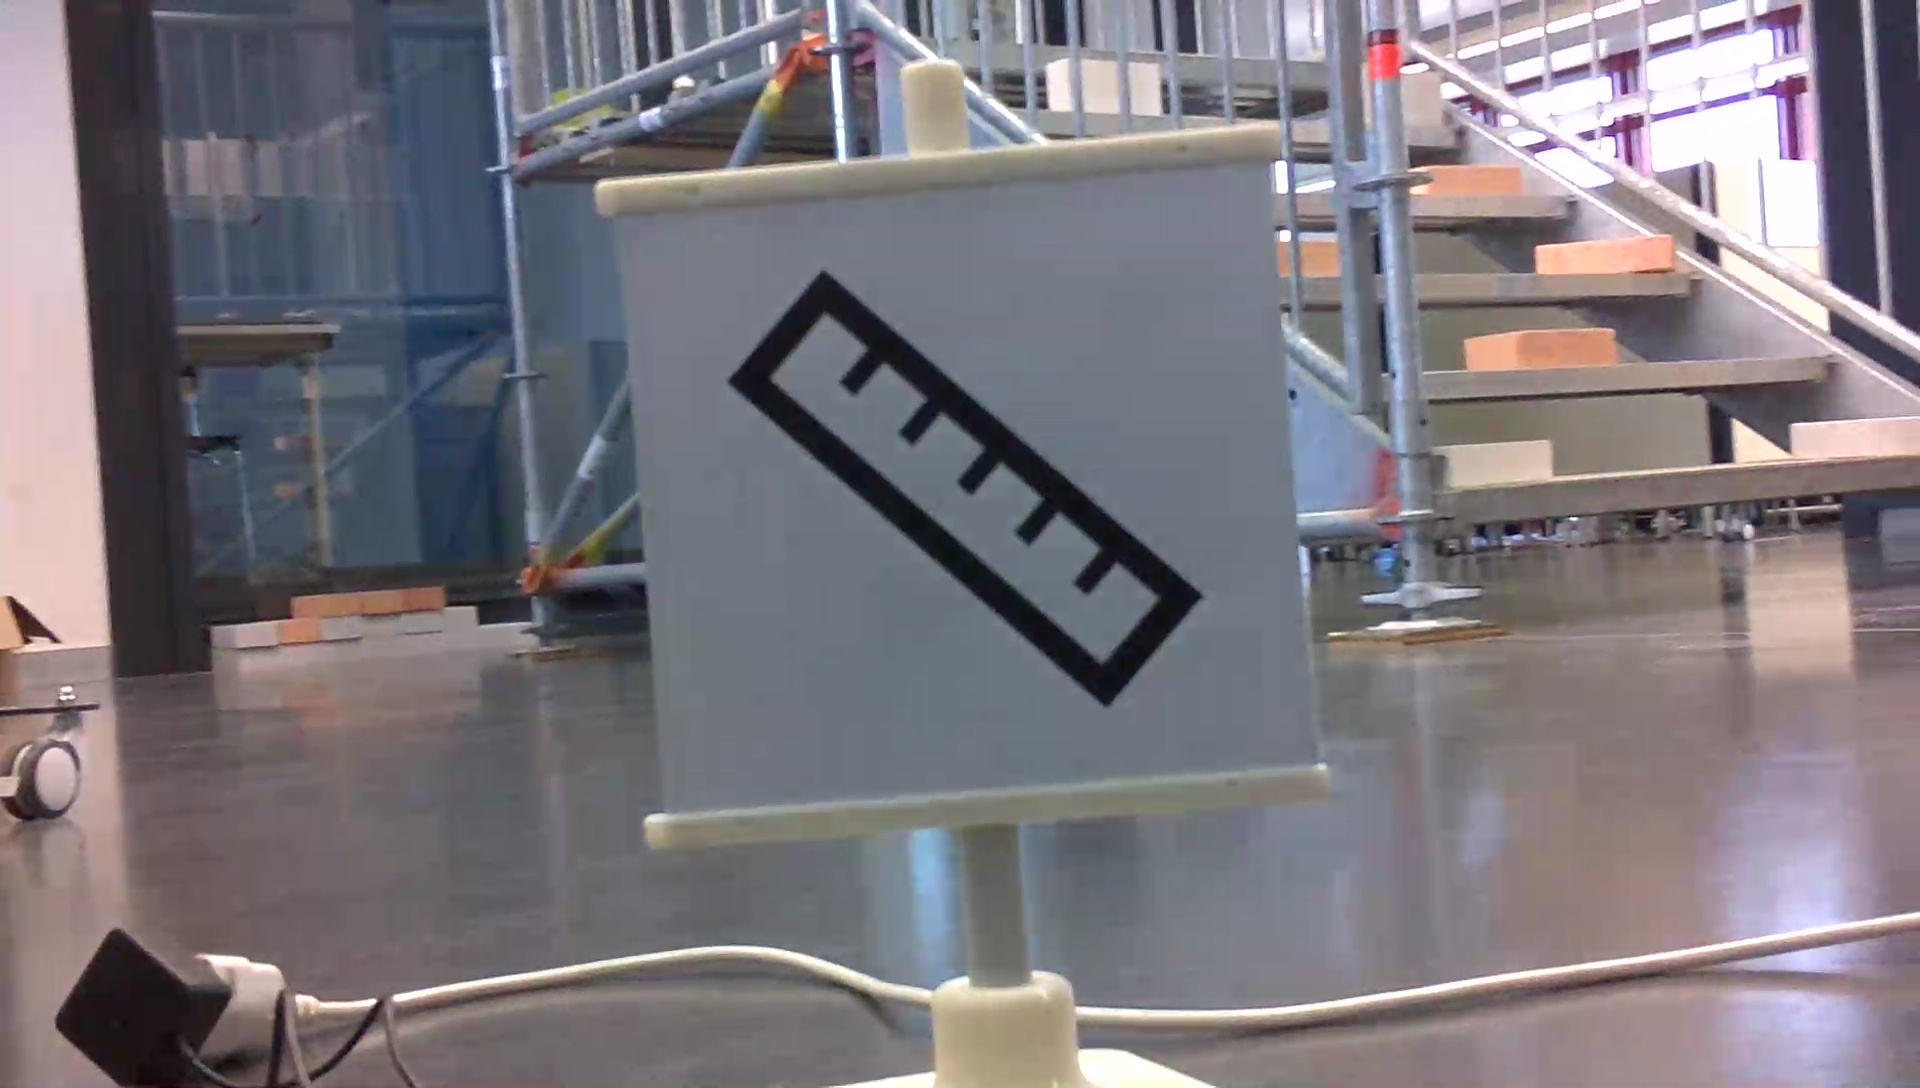brick: (1418, 429, 1567, 492), (1036, 58, 1160, 112), (1402, 152, 1528, 204), (1526, 226, 1672, 270), (1484, 324, 1611, 371), (1789, 415, 1920, 459), (1263, 237, 1365, 281), (1362, 70, 1432, 127)
edge: (1461, 454, 1920, 528), (1383, 346, 1847, 410), (1387, 265, 1697, 302), (1385, 191, 1577, 219)
ruler: (727, 251, 1216, 739)
